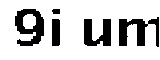9: (12, 6, 47, 51)
i: (50, 4, 67, 52)
m: (113, 11, 160, 54)
u: (79, 13, 113, 53)
